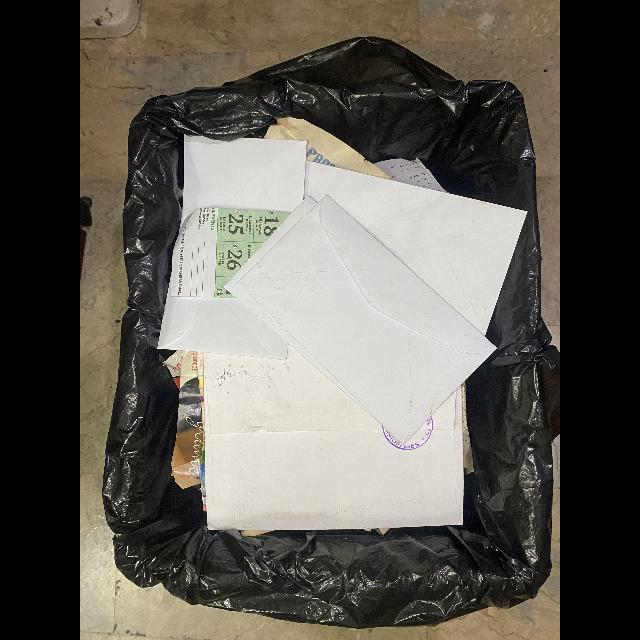paper: (237, 195, 498, 445), (203, 344, 463, 530), (304, 160, 529, 336), (225, 195, 384, 426), (179, 134, 307, 231), (157, 274, 289, 360), (170, 207, 292, 299), (263, 117, 397, 182), (373, 158, 450, 195)
